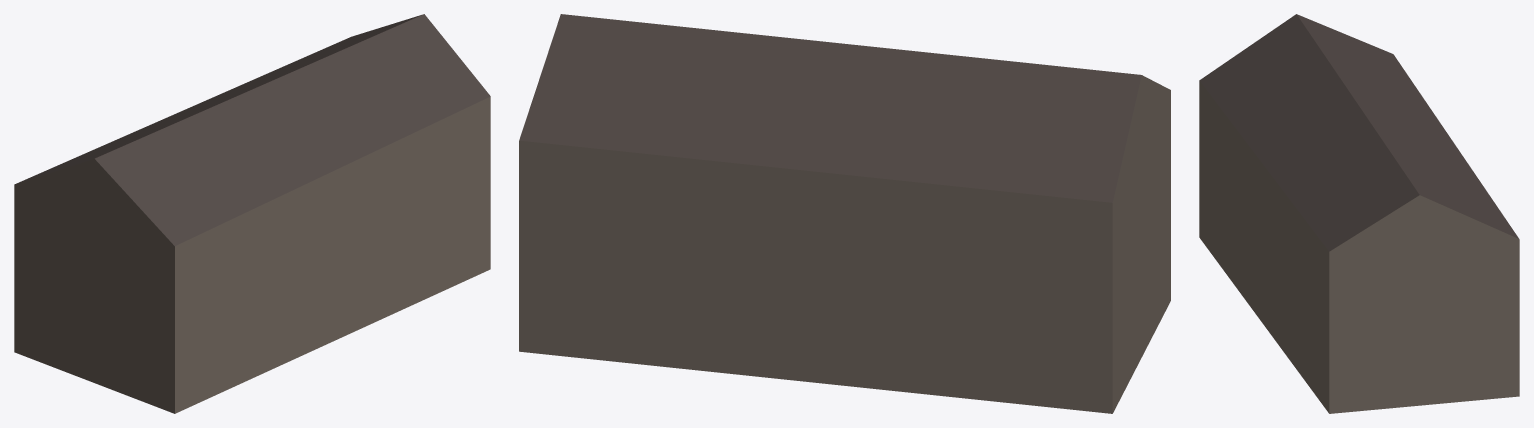
3 renders of one model, left to right at view 1: azimuth 30°, elevation 25°; view 2: azimuth 150°, elevation 25°; view 3: azimuth 270°, elevation 25°, orthographic. The views are drawn at different scales.
Visible parts, largest first — view 1: HP-w1198898791; view 2: HP-w1198898791; view 3: HP-w1198898791.
Part boxes in pixels (x1,y1,x2,y2): HP-w1198898791: [14, 14, 490, 413]; HP-w1198898791: [519, 14, 1170, 413]; HP-w1198898791: [1199, 14, 1519, 413].
Size of the model in its own units: 16.57 by 8.03 by 11.07.
